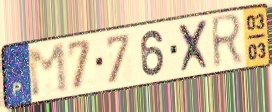6: (139, 28, 166, 78)
7: (65, 36, 95, 93), (104, 31, 132, 87)
M: (25, 41, 71, 100)
R: (209, 11, 245, 73)
X: (177, 17, 213, 75)
